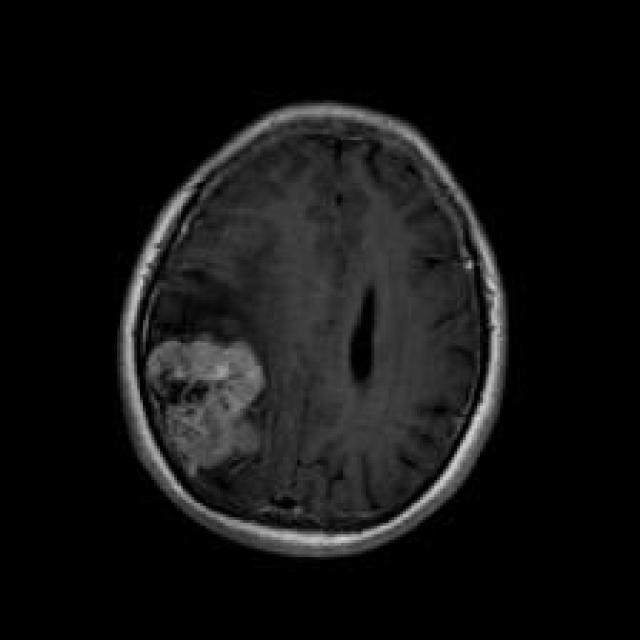meningioma_tumor: (134, 325, 280, 490)
